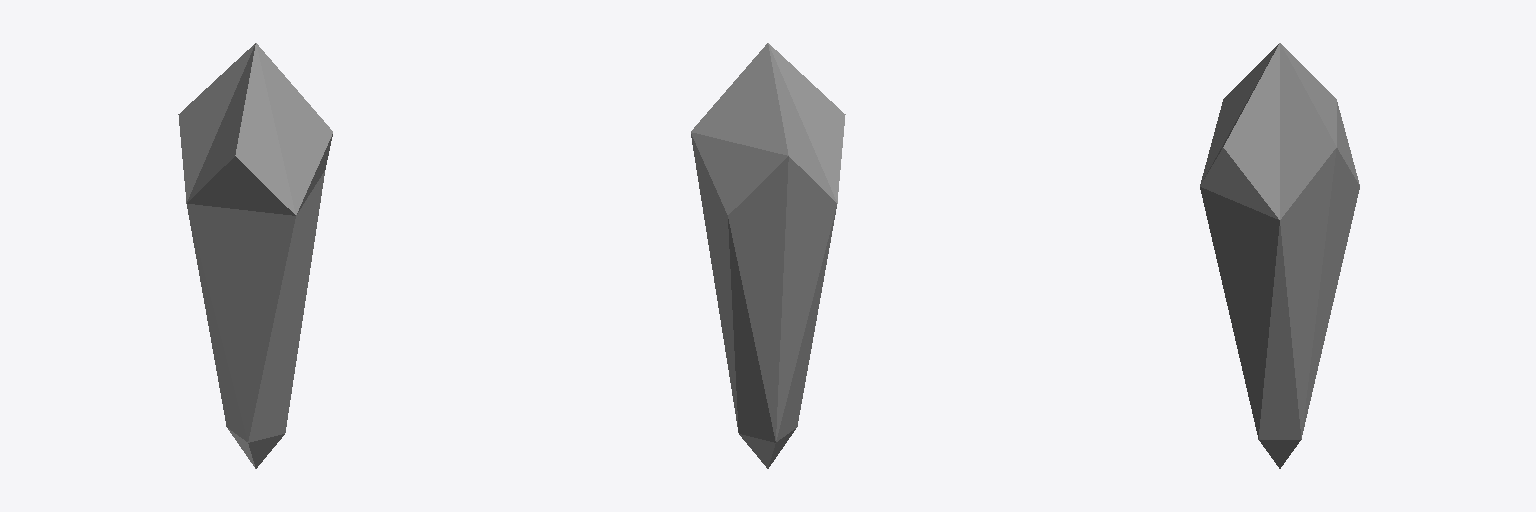
File: gem2.obj
The picture shows the model from 3 angles: view 1: azimuth 30°, elevation 25°; view 2: azimuth 150°, elevation 25°; view 3: azimuth 270°, elevation 25°; orthographic projection.
Visible parts, largest first — view 1: Cube; view 2: Cube; view 3: Cube.
Boxes of the visible parts, <box> form: Cube: <box>178,43,332,468</box>; Cube: <box>691,43,845,468</box>; Cube: <box>1200,43,1359,468</box>.
Bounding box in the file's own units: 0.4133 × 1.21 × 0.4133.